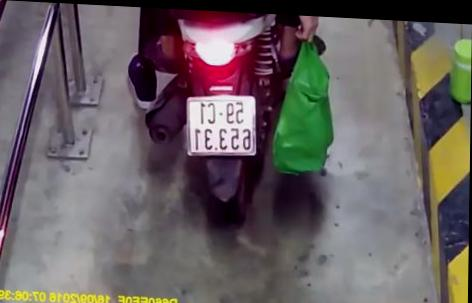License_Plate: (175, 88, 267, 168)
